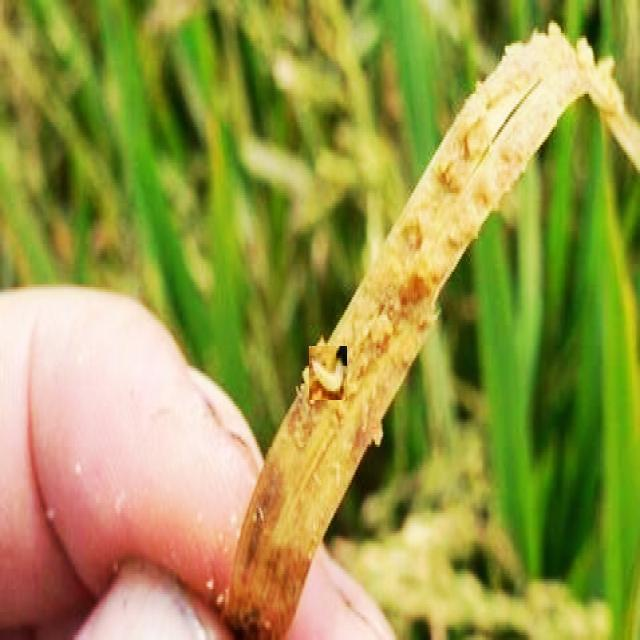whorl-maggot: (309, 346, 347, 400)
